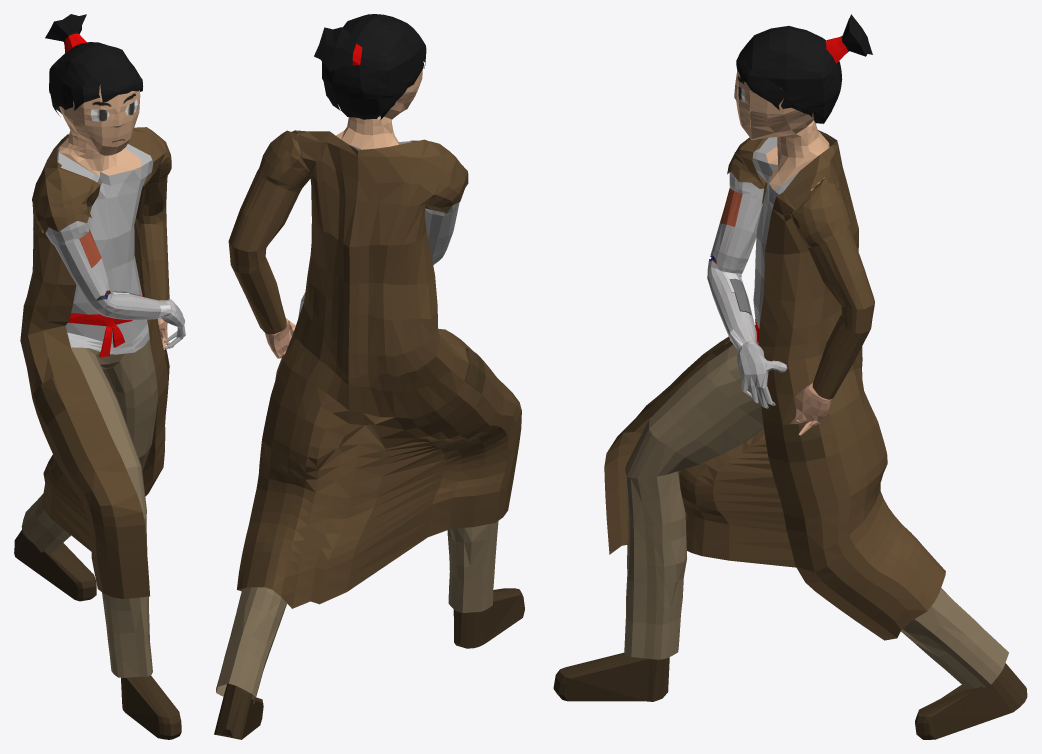
The model's file is One_DF_000000.obj.
3 views of the same model, side by side, from view 1: azimuth 30°, elevation 25°; view 2: azimuth 150°, elevation 25°; view 3: azimuth 270°, elevation 25° (orthographic). The views are drawn at different scales.
Parts seen in each view (by area): view 1: Hair_Cube.004; view 2: Hair_Cube.004; view 3: Hair_Cube.004.
Boxes of the visible parts, x1,y1,x2,y2 form: Hair_Cube.004: (14,14,185,739); Hair_Cube.004: (214,14,524,739); Hair_Cube.004: (553,14,1027,739).
Size of the model in its own units: 1.09 by 3.68 by 2.28.
